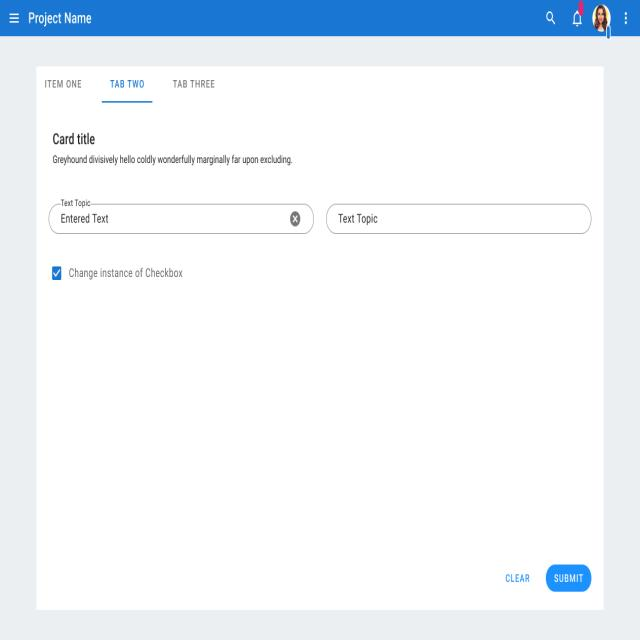QLabel: (52, 153, 293, 168), (26, 10, 93, 27), (51, 132, 96, 147), (171, 77, 216, 91), (105, 76, 146, 90), (43, 78, 84, 90), (552, 572, 584, 582), (504, 572, 530, 584)
VAppBar: (0, 0, 640, 37)
VBadge: (592, 5, 612, 34), (572, 1, 584, 28)
VBtn: (545, 563, 592, 593), (494, 564, 541, 592)
VCard: (35, 63, 606, 612)
VCheckbox: (51, 263, 184, 282)
VIcon: (545, 10, 556, 26), (8, 13, 20, 24), (624, 12, 628, 26)
VTab: (100, 71, 160, 104), (167, 71, 222, 103), (41, 73, 95, 102)
VTabs: (38, 68, 603, 107)
VTextField: (48, 197, 314, 236), (326, 202, 592, 236)
